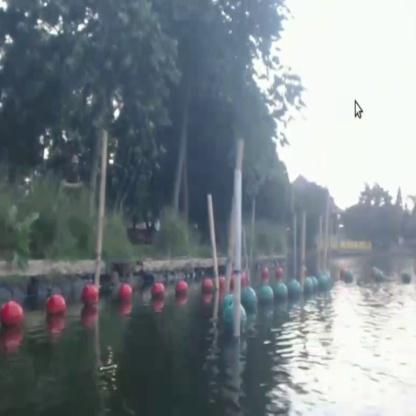green_buoy: (226, 304, 245, 329), (259, 288, 274, 312), (274, 283, 288, 308), (242, 288, 256, 311), (288, 278, 302, 298), (318, 274, 328, 290), (310, 274, 318, 292), (306, 278, 312, 295), (347, 270, 354, 284), (402, 270, 410, 282), (376, 274, 384, 285)
red_buoy: (0, 303, 24, 339), (43, 296, 61, 321), (82, 285, 98, 311), (121, 284, 132, 306), (152, 282, 165, 300), (200, 276, 212, 294), (176, 280, 188, 298), (219, 276, 225, 290), (262, 270, 270, 280), (276, 268, 282, 280), (340, 267, 344, 277)
